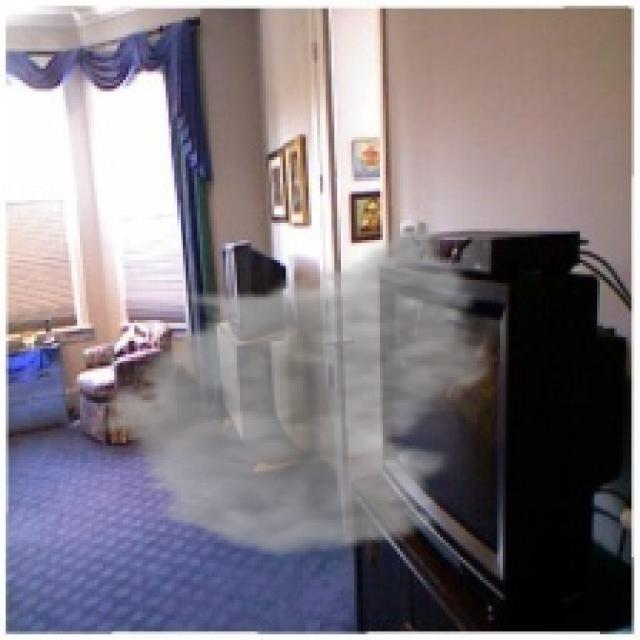Smoke: (88, 215, 506, 560)
